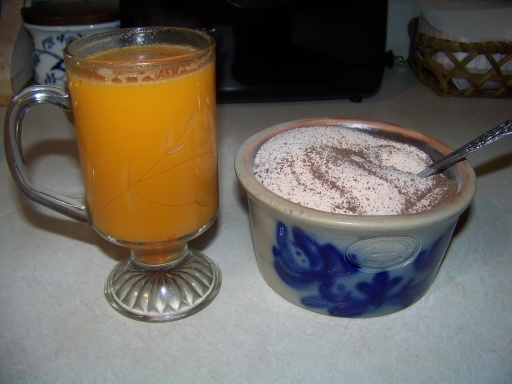background: (53, 25, 175, 158), (166, 55, 366, 128)
